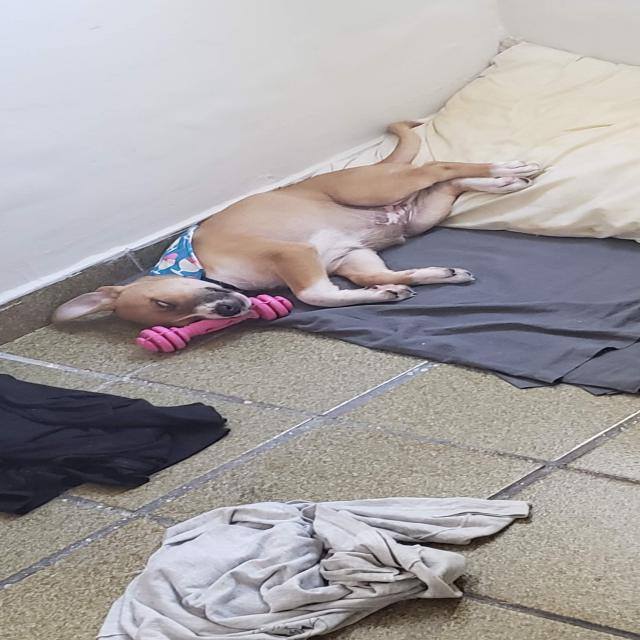laying down: (48, 118, 554, 344)
